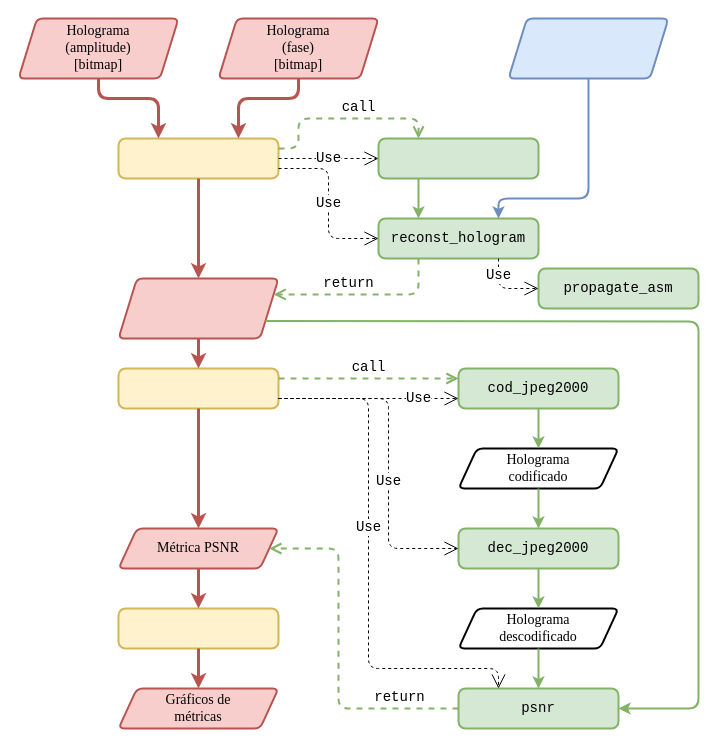
This 724x746 diagram has some shape labels left out. Each missing label, with the centre of its shape:
"compress_views" goes at point (198, 388).
"Holograma (especificações) [JSON]" goes at point (588, 48).
"Holograma reconstruído (16 vistas)" goes at point (198, 308).
"load_hologram" goes at point (458, 158).
"plot_graphic" goes at point (198, 628).
"reconst_16views" goes at point (198, 158).
